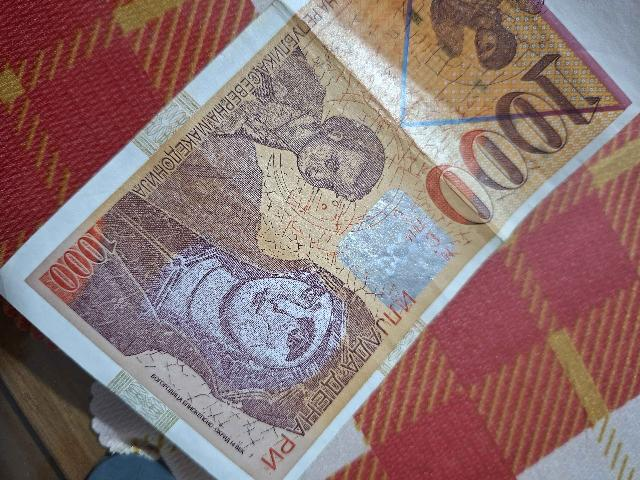1000_note: (28, 0, 628, 479)
